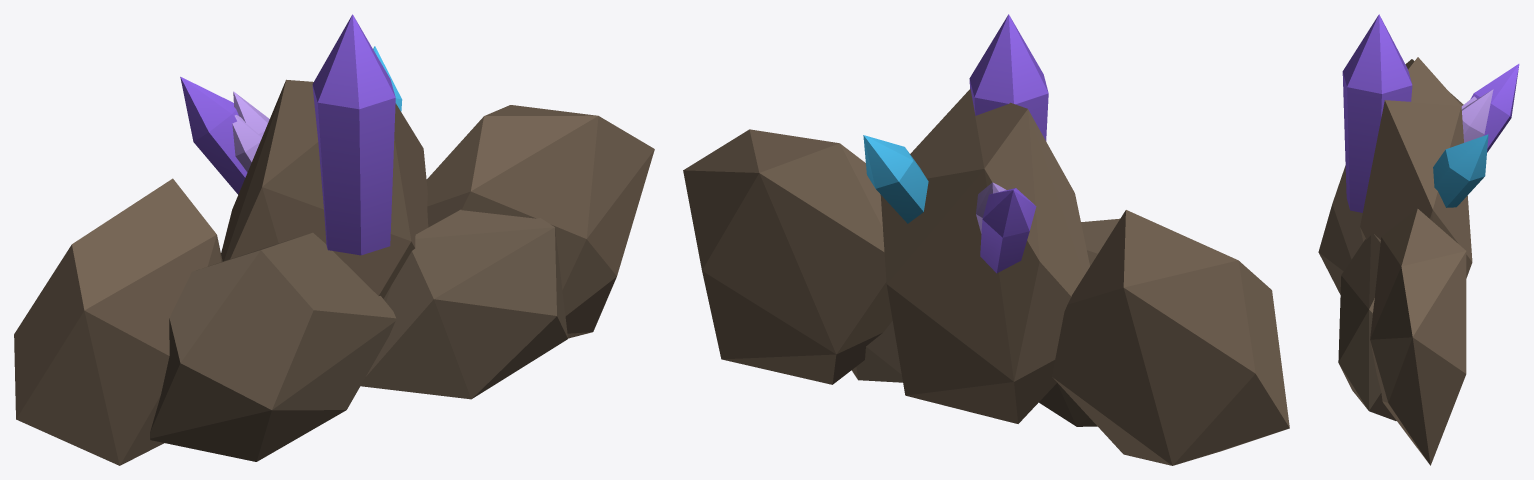
File: boss_gate.fbx
3 views of the same model, side by side, from view 1: azimuth 30°, elevation 25°; view 2: azimuth 150°, elevation 25°; view 3: azimuth 270°, elevation 25° (orthographic). The views are drawn at different scales.
Visible parts, largest first — view 1: boss_gate; view 2: boss_gate; view 3: boss_gate.
Part boxes in pixels (x1,y1,x2,y2): boss_gate: (14,14,654,465); boss_gate: (683,14,1289,465); boss_gate: (1318,14,1519,465).
Size of the model in its own units: 4.89 by 3.03 by 1.59.
